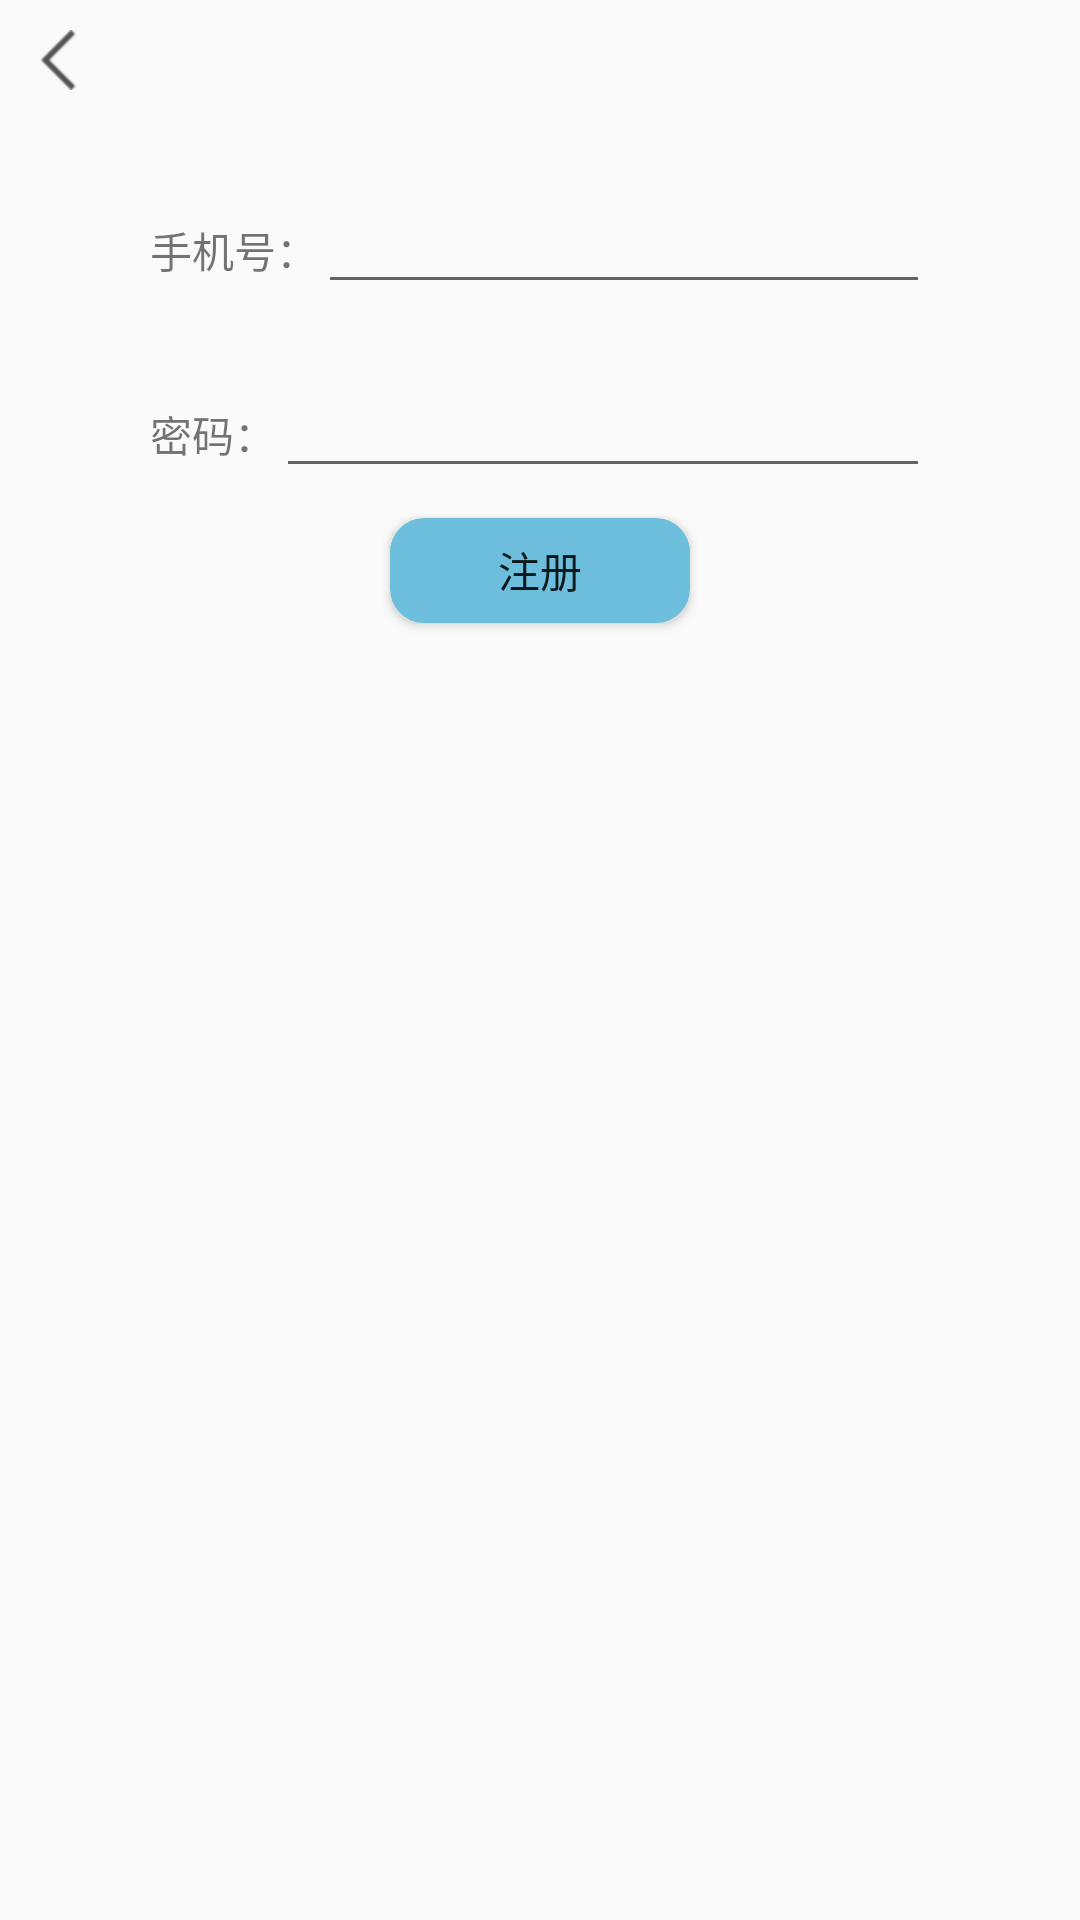

Where icons sit on this 1080w x 1920h app screen, as (x1, y1, x2, y2):
back: (41, 30, 75, 90)
